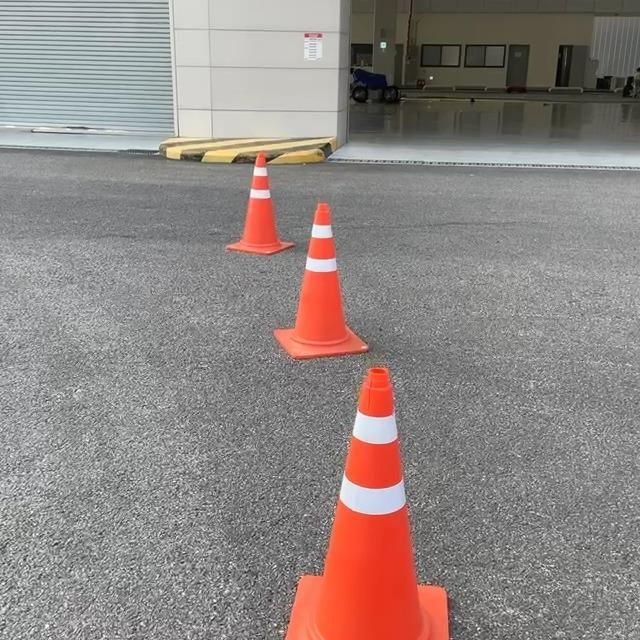fallen_object: (273, 319, 485, 627), (273, 193, 377, 357), (222, 140, 298, 258)
